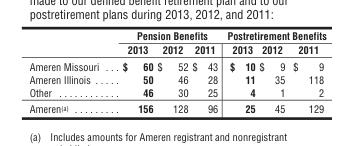table: (28, 28, 325, 114)
table column: (28, 28, 110, 114), (110, 28, 154, 114), (288, 28, 325, 114), (154, 28, 189, 114), (221, 28, 256, 114), (189, 28, 221, 114), (256, 28, 288, 114)
table column header: (28, 28, 325, 57)
table row: (28, 42, 325, 57), (28, 57, 325, 72), (28, 85, 325, 100), (28, 28, 325, 42), (28, 100, 325, 114), (28, 72, 325, 85)
table spanning cell: (110, 28, 221, 42), (221, 28, 325, 42)
